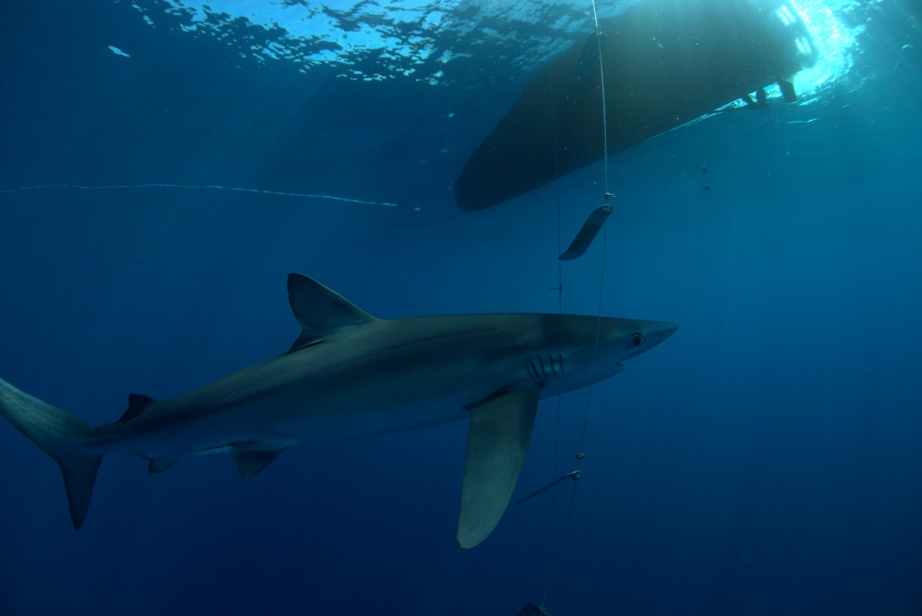Azul: (1, 260, 732, 576)
